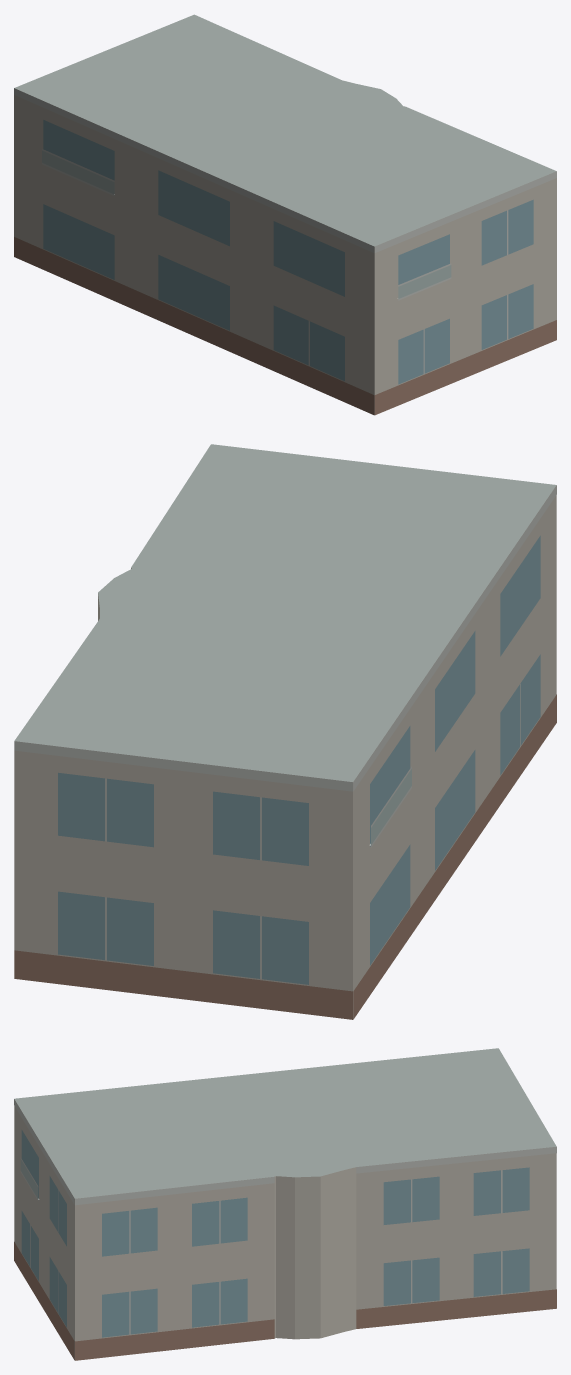
File: survey-upis-32607724.glb
The picture shows the model from 3 angles, top to bottom: view 1: azimuth 30°, elevation 25°; view 2: azimuth 150°, elevation 25°; view 3: azimuth 270°, elevation 25°; orthographic projection. The views are drawn at different scales.
Parts seen in each view (by area): view 1: survey-upis-32607724.tmp; view 2: survey-upis-32607724.tmp; view 3: survey-upis-32607724.tmp.
Part boxes in pixels (left/top/right/bottom): survey-upis-32607724.tmp: left=14, top=14, right=556, bottom=415; survey-upis-32607724.tmp: left=14, top=444, right=556, bottom=1019; survey-upis-32607724.tmp: left=14, top=1048, right=556, bottom=1360.
Size of the model in its own units: 12.18 by 6.1 by 18.54.
